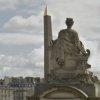Statue: (44, 10, 94, 91)
